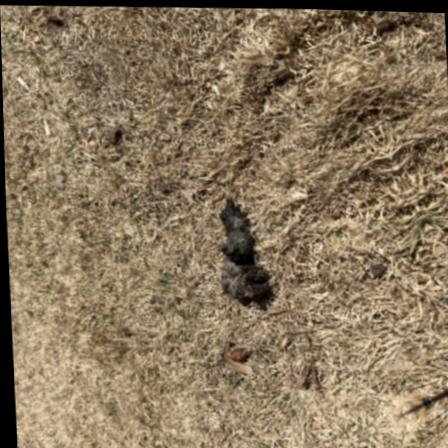dog-poop: (210, 196, 275, 319)
